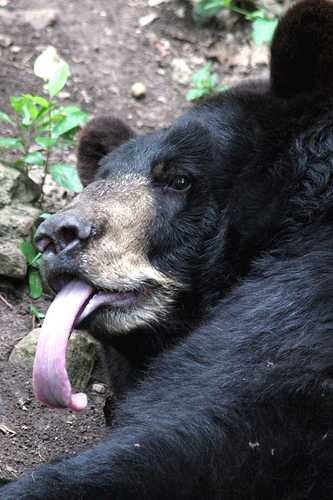bear: (78, 103, 206, 232), (27, 197, 155, 325), (204, 1, 333, 128)
